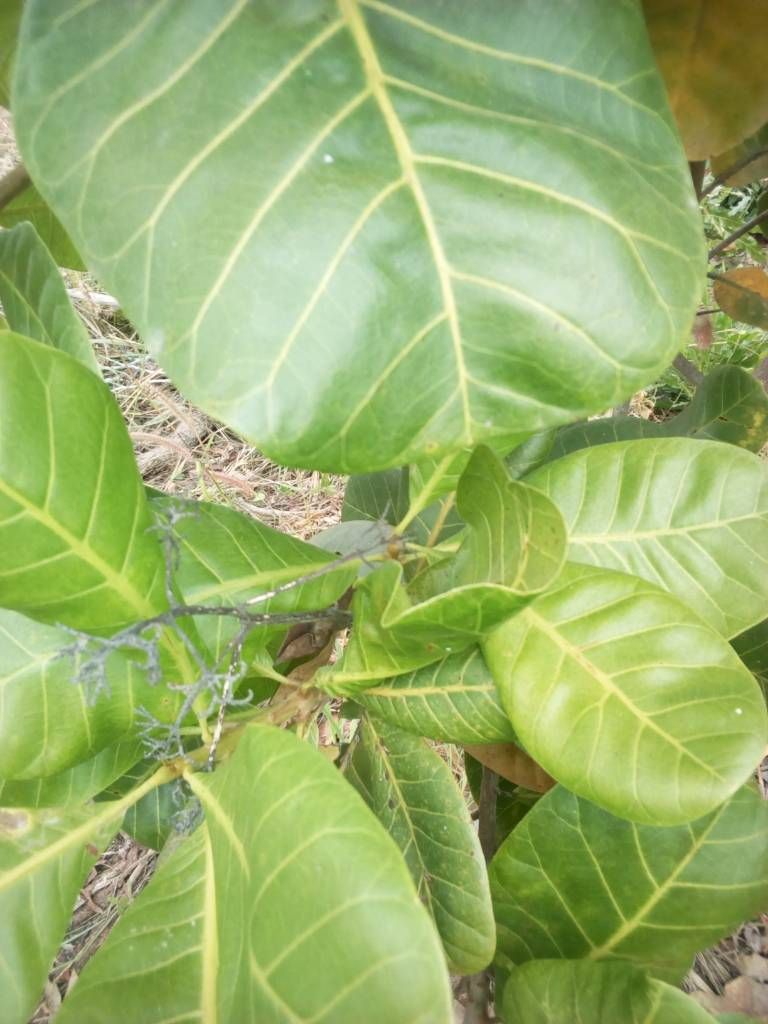Dessèchement des bourgeons: (66, 583, 241, 839)
